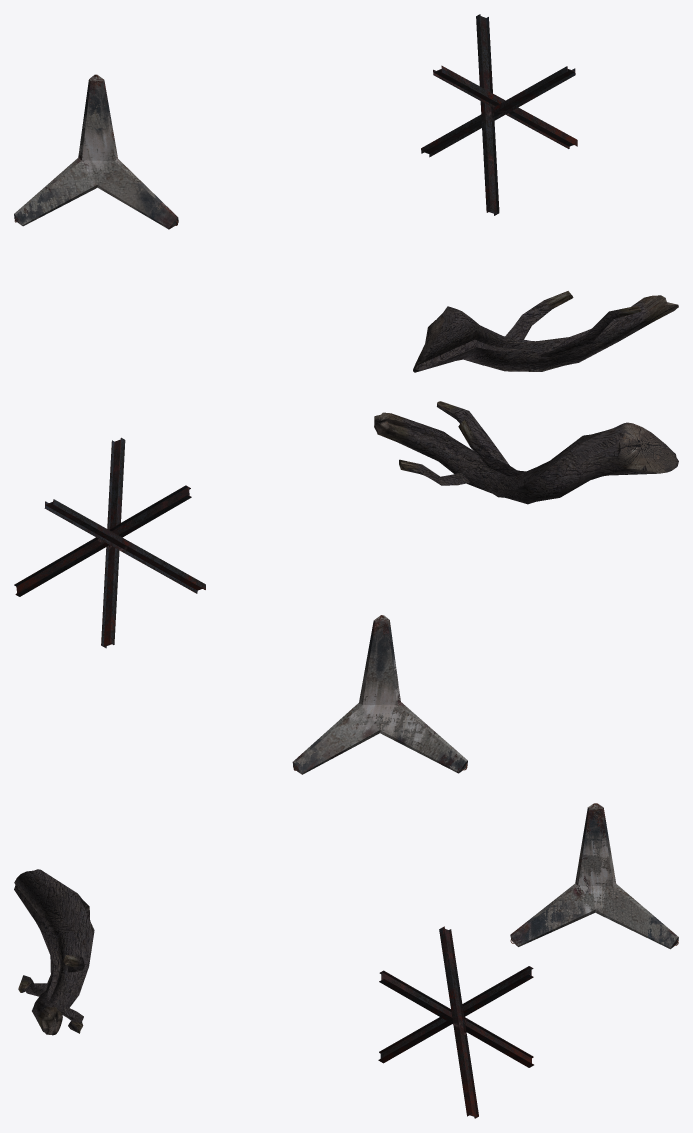
The model's file is Tree.fbx.
3 renders of one model, top to bottom at view 1: azimuth 30°, elevation 25°; view 2: azimuth 150°, elevation 25°; view 3: azimuth 270°, elevation 25°, orthographic. The views are drawn at different scales.
Parts seen in each view (by area): view 1: polySurface4, polySurface8, polySurface1; view 2: polySurface4, polySurface8, polySurface1; view 3: polySurface4, polySurface8, polySurface1.
Part boxes in pixels (left/top/right/bottom): polySurface4: left=413, top=291, right=678, bottom=372; polySurface8: left=14, top=74, right=178, bottom=229; polySurface1: left=421, top=14, right=577, bottom=215; polySurface4: left=374, top=401, right=678, bottom=504; polySurface8: left=292, top=615, right=467, bottom=774; polySurface1: left=14, top=437, right=205, bottom=648; polySurface4: left=14, top=869, right=94, bottom=1035; polySurface8: left=510, top=803, right=678, bottom=949; polySurface1: left=378, top=926, right=533, bottom=1118.
Bounding box in the file's own units: 1060 × 270 × 1274.
Materials: 1 (1 with a texture image).
